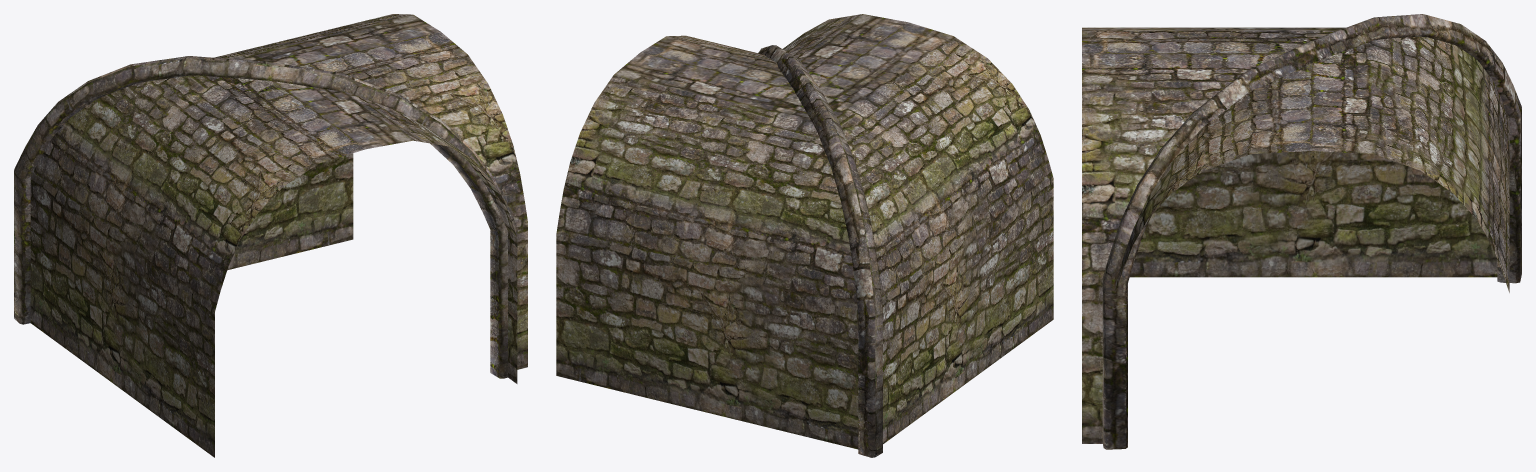
The model's file is Tunnel_Corner.FBX.
3 views of the same model, side by side, from view 1: azimuth 30°, elevation 25°; view 2: azimuth 150°, elevation 25°; view 3: azimuth 270°, elevation 25° (orthographic). The views are drawn at different scales.
Parts seen in each view (by area): view 1: Tunnel_Corner; view 2: Tunnel_Corner; view 3: Tunnel_Corner.
Part boxes in pixels (left/top/right/bottom): Tunnel_Corner: left=14, top=14, right=527, bottom=457; Tunnel_Corner: left=556, top=14, right=1053, bottom=457; Tunnel_Corner: left=1082, top=14, right=1521, bottom=449.
Bounding box in the file's own units: 381 × 307 × 382.
